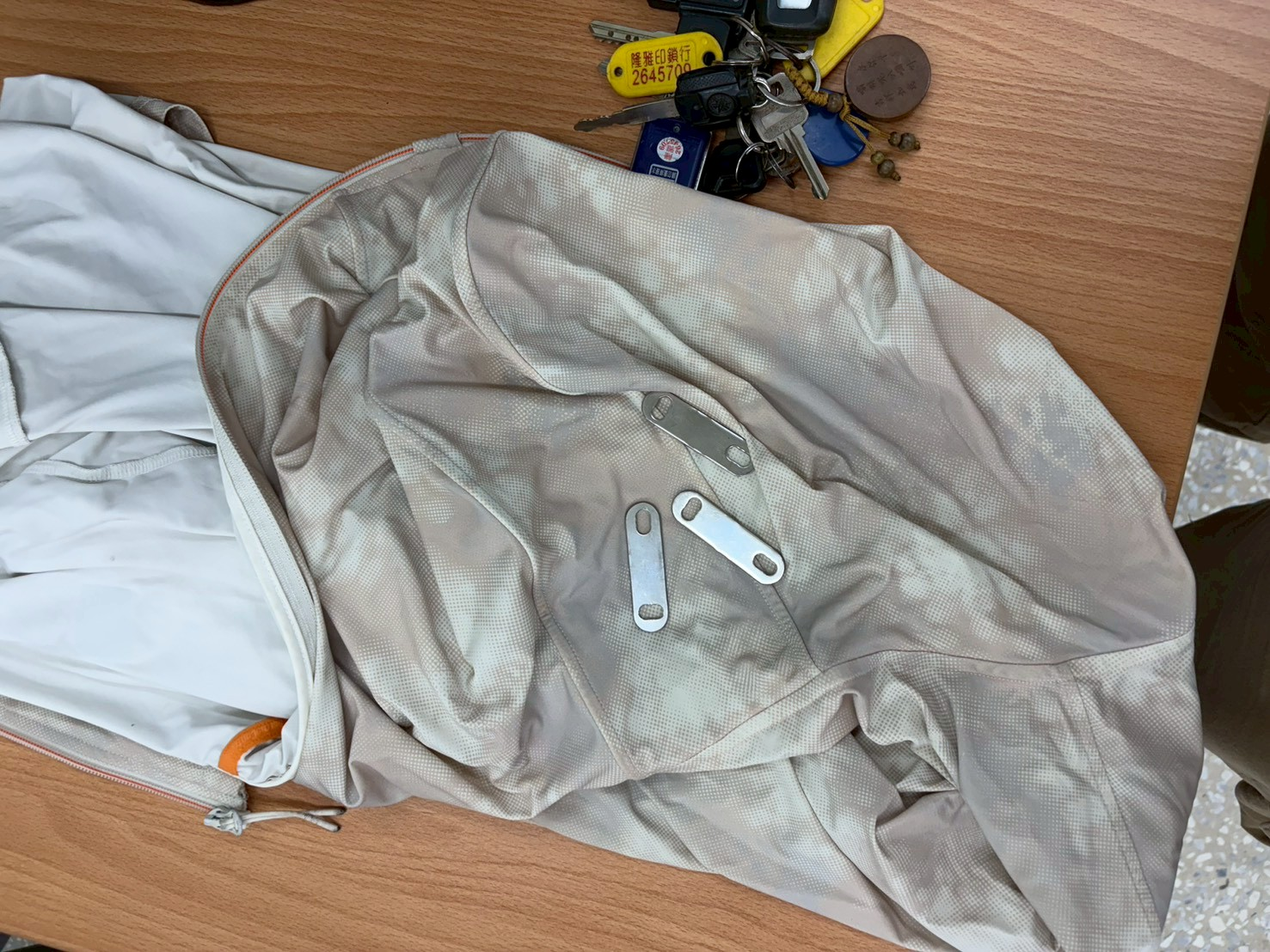Fe: (676, 486, 792, 585), (645, 385, 757, 469), (622, 493, 677, 636)
